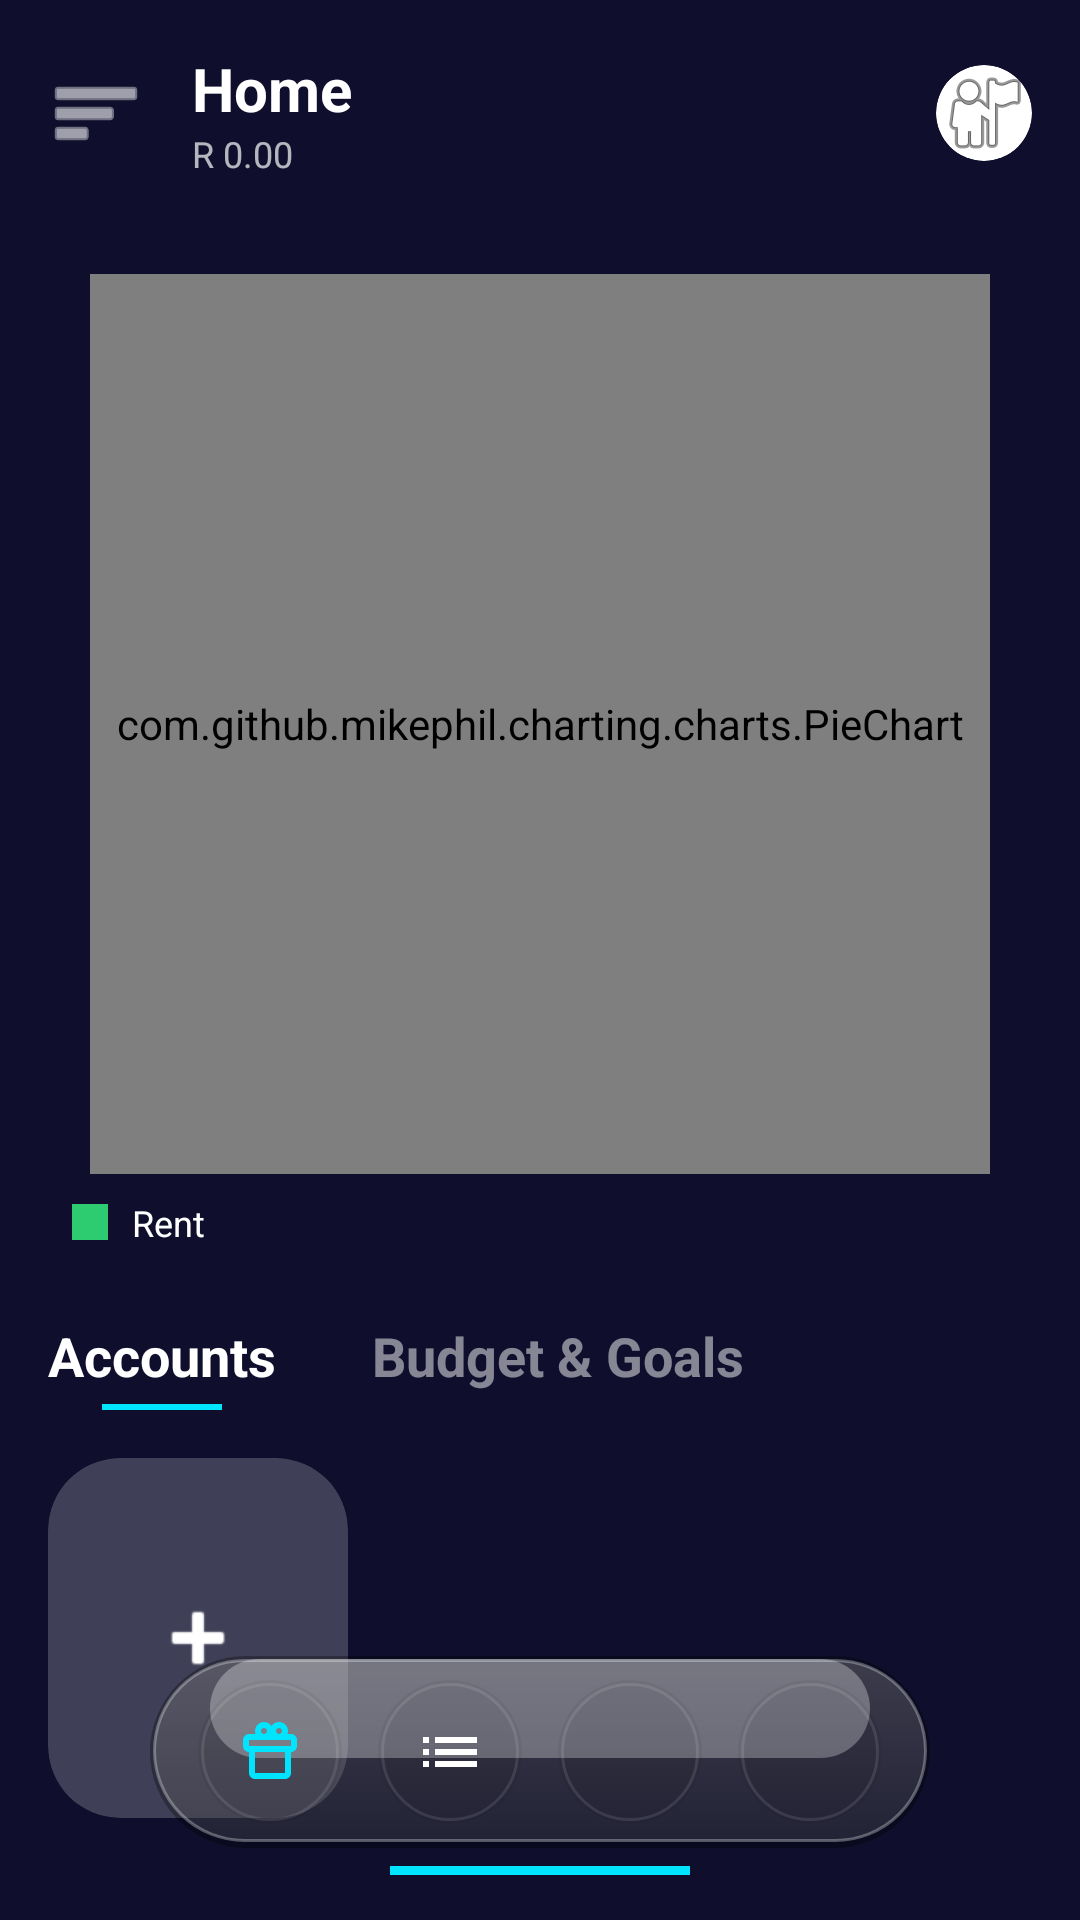

Where to tap for icons on this 1080 x 1920 app screen, as (x,y):
add: (198,1638)
gift: (270,1752)
menu: (450,1752)
sort by size: (96,113)
